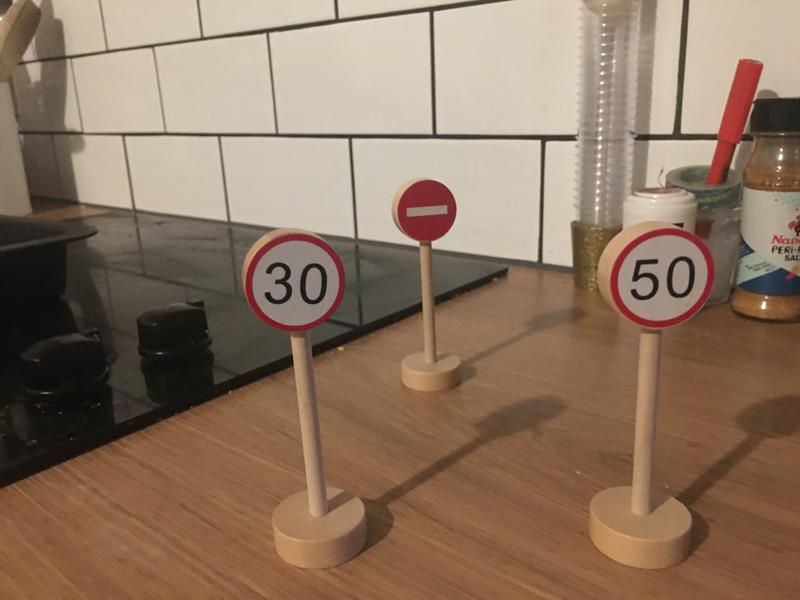Traffic_Sign_30: (244, 235, 343, 332)
Traffic_Sign_50: (612, 230, 712, 326)
Traffic_Sign_No_Entry: (397, 180, 457, 241)
